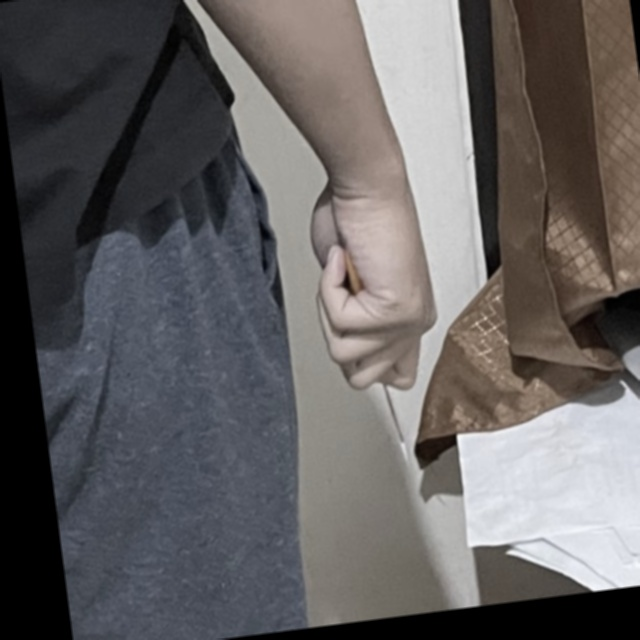Sharp-Object: (337, 238, 414, 475)
